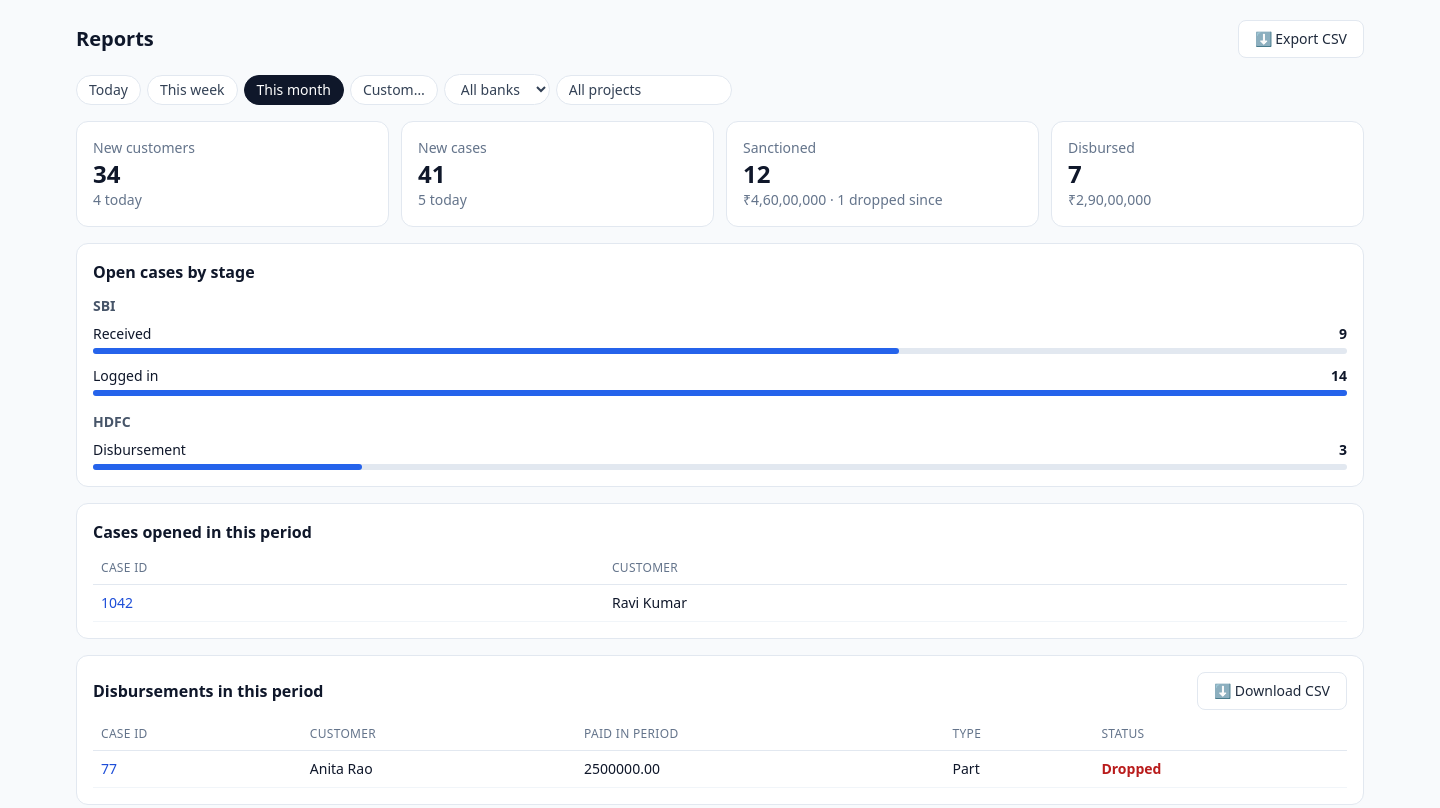
Scenario: Reports › Custom shows date inputs, presets hide them
Expected: the button "This month" is shown, [244, 74, 344, 104]
Expected: the field labelled "From" is not shown
Click the button "Custom…" at (394, 90), box [350, 74, 438, 104]
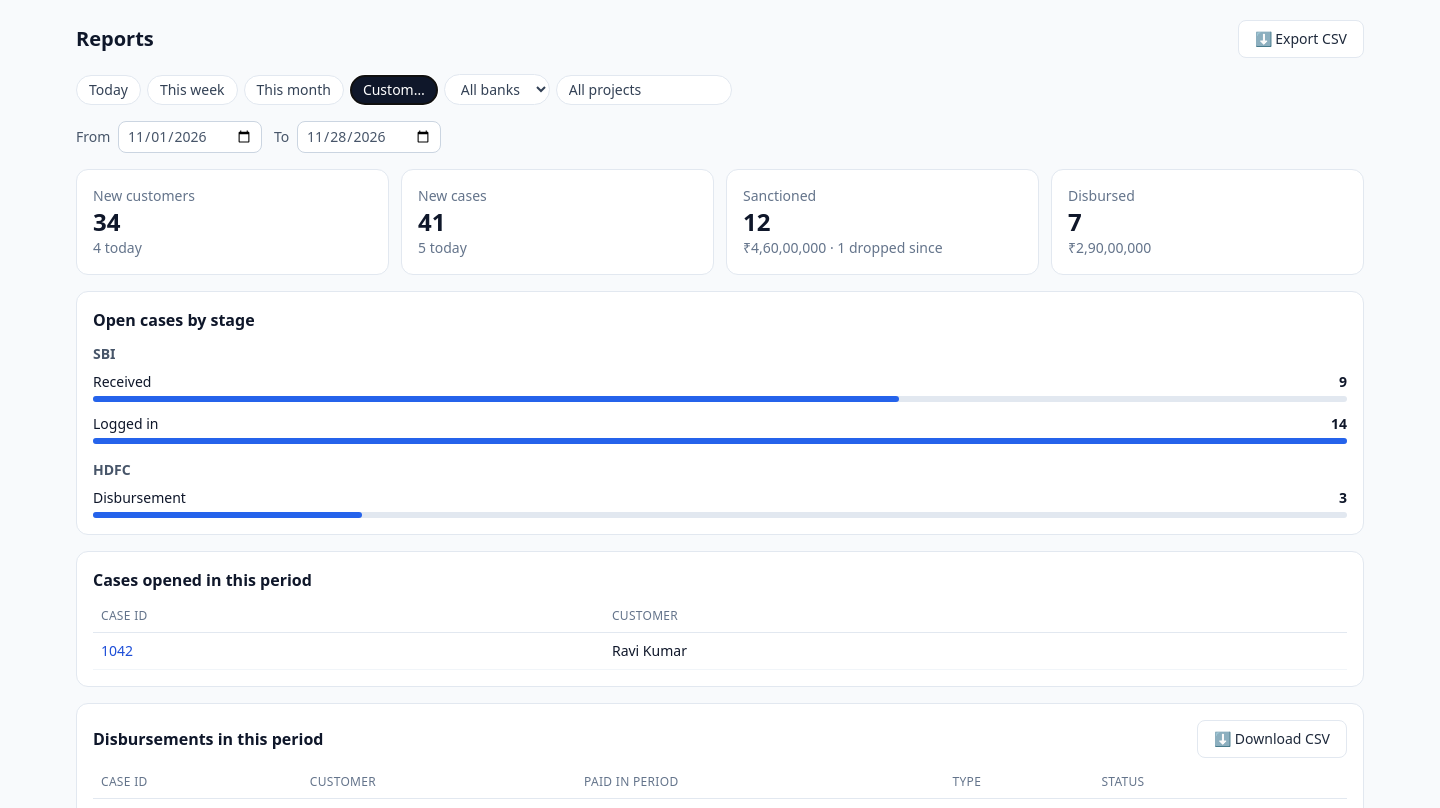
Expected: the date field labelled "From" is shown, [118, 121, 262, 153]
Click the button "Today" at (108, 90), box [76, 74, 141, 104]
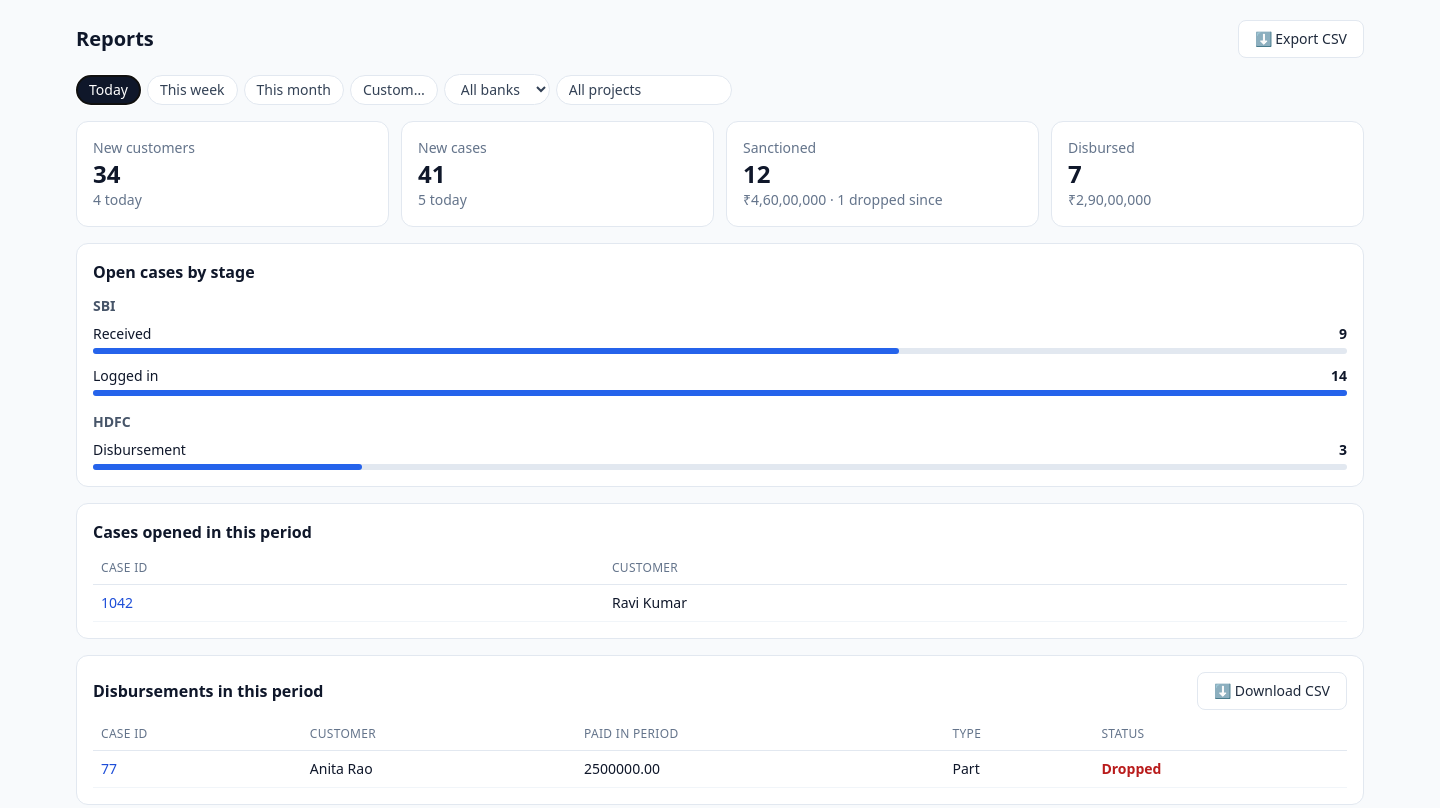
Expected: the label labelled "From" is gone
